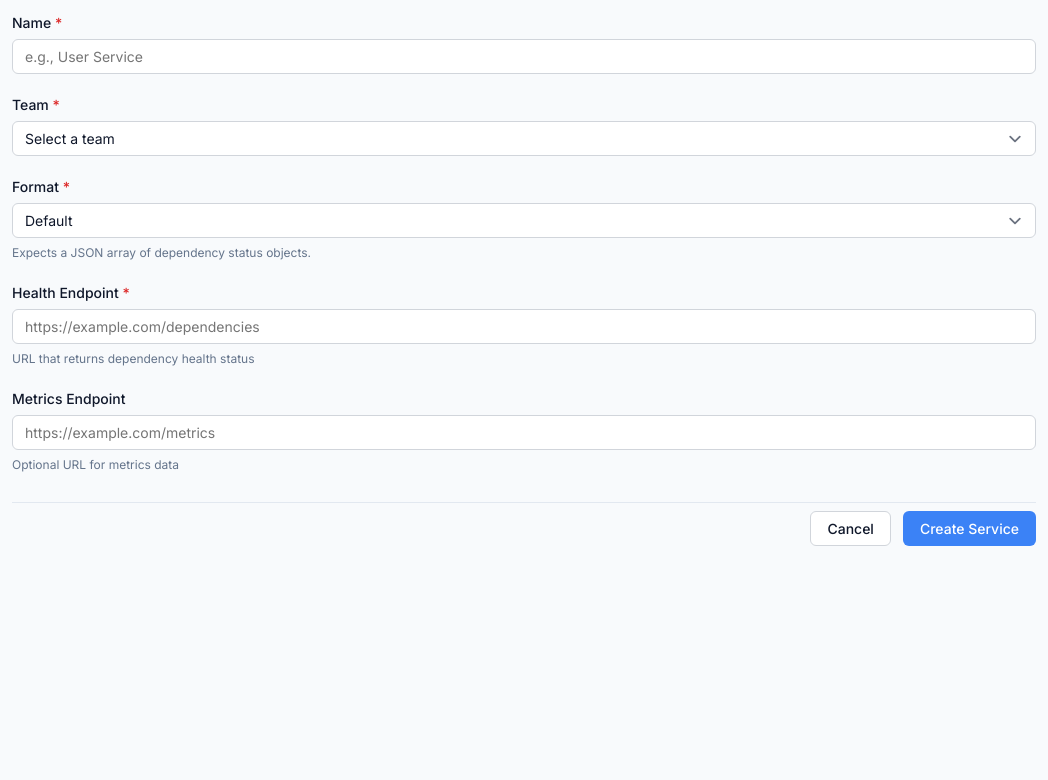
Test case: ServiceForm › handles submit error
Type "New Service" into the field labelled "Name *".
click(524, 56); type("New Service")  # box x1=12 y1=39 x2=1036 y2=74
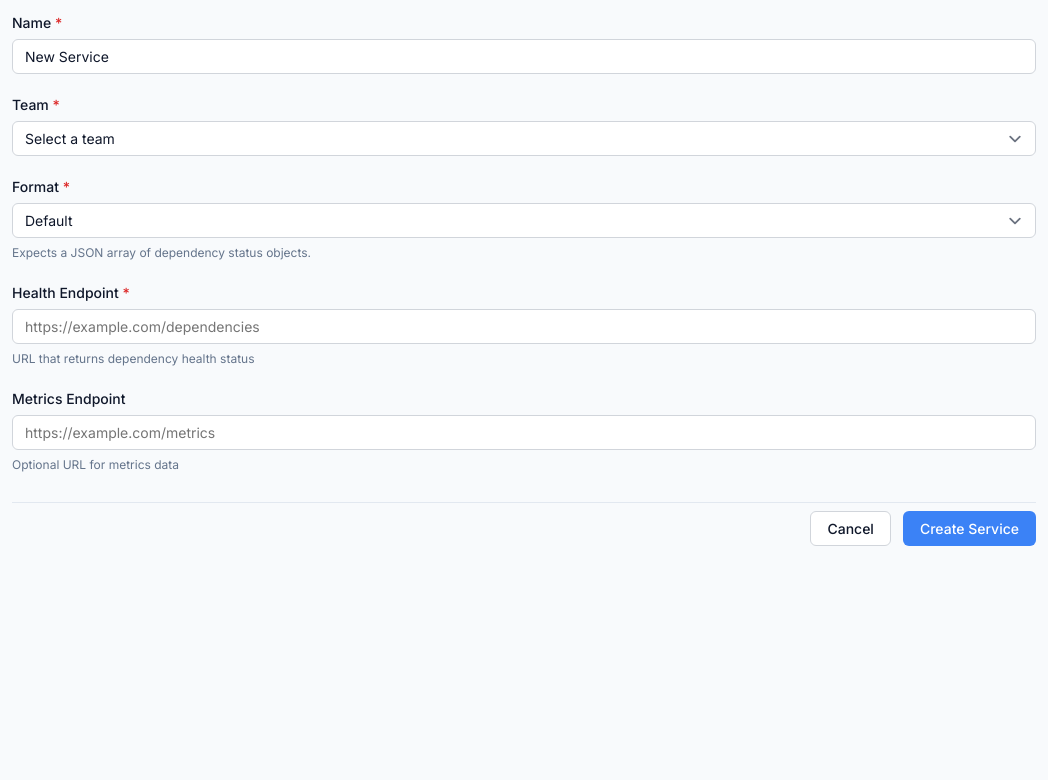
Select "Team A" in the dropdown labelled "Team *" at (524, 138), box x1=12 y1=121 x2=1036 y2=156
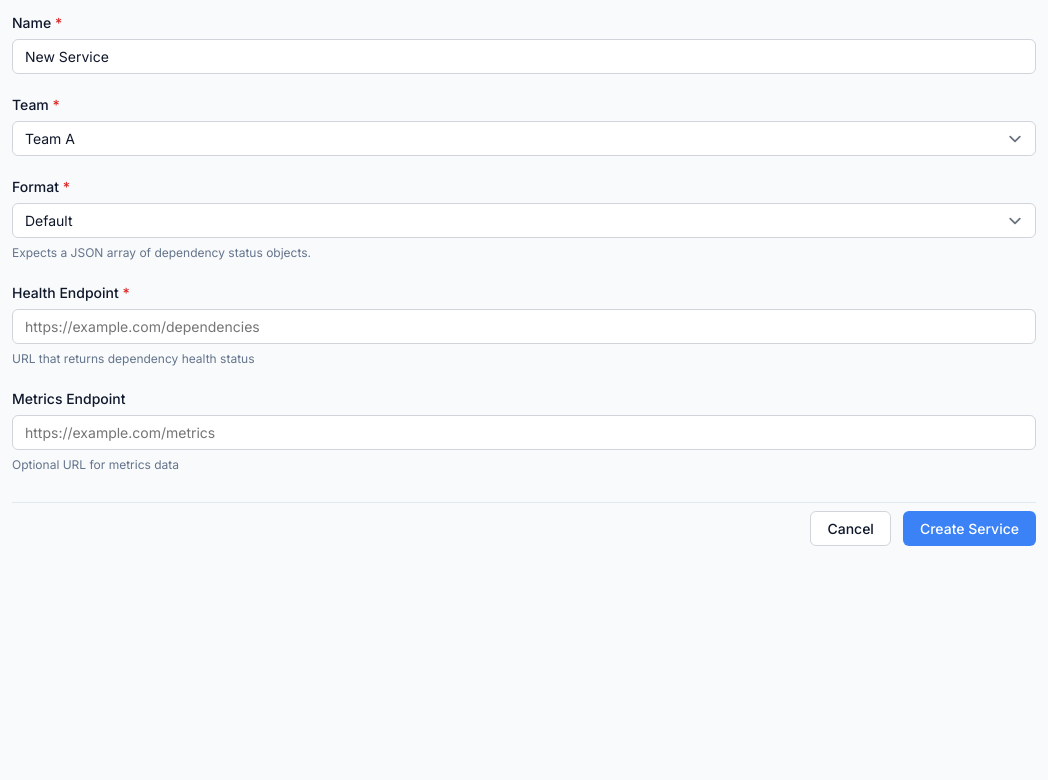
Type "https://example.com/health" into the field labelled "Health Endpoint *".
click(524, 326); type("https://example.com/health")  # box x1=12 y1=309 x2=1036 y2=344
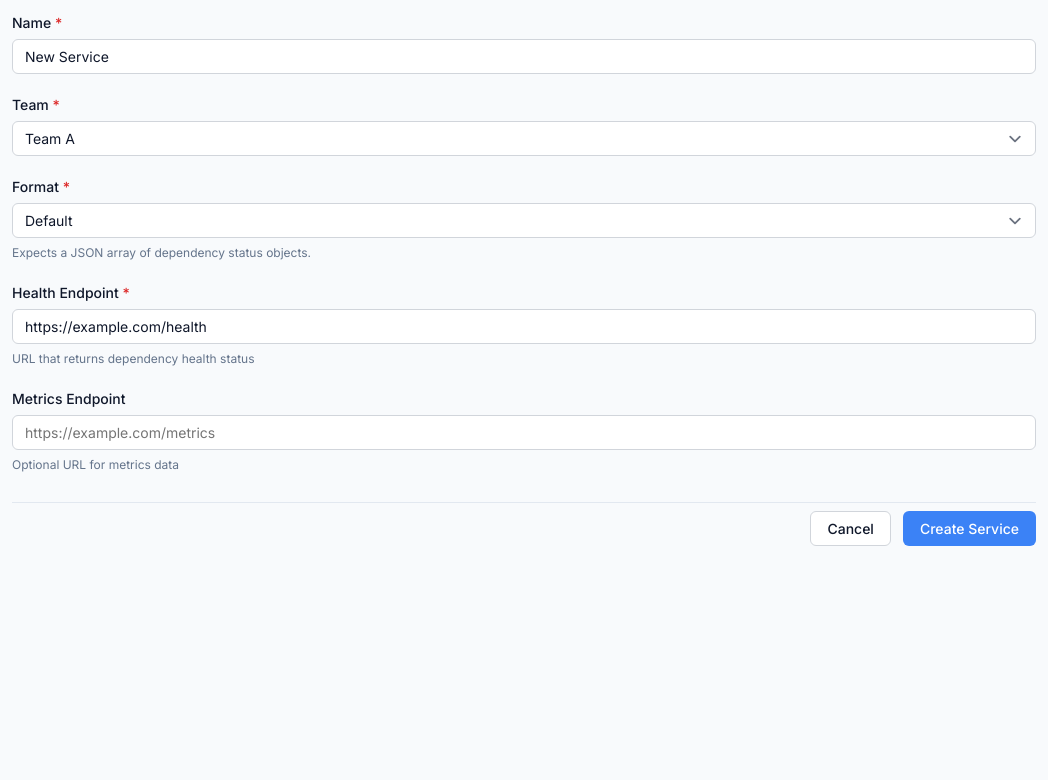
Click the button "Create Service".
click(969, 528)  # box x1=903 y1=511 x2=1036 y2=546
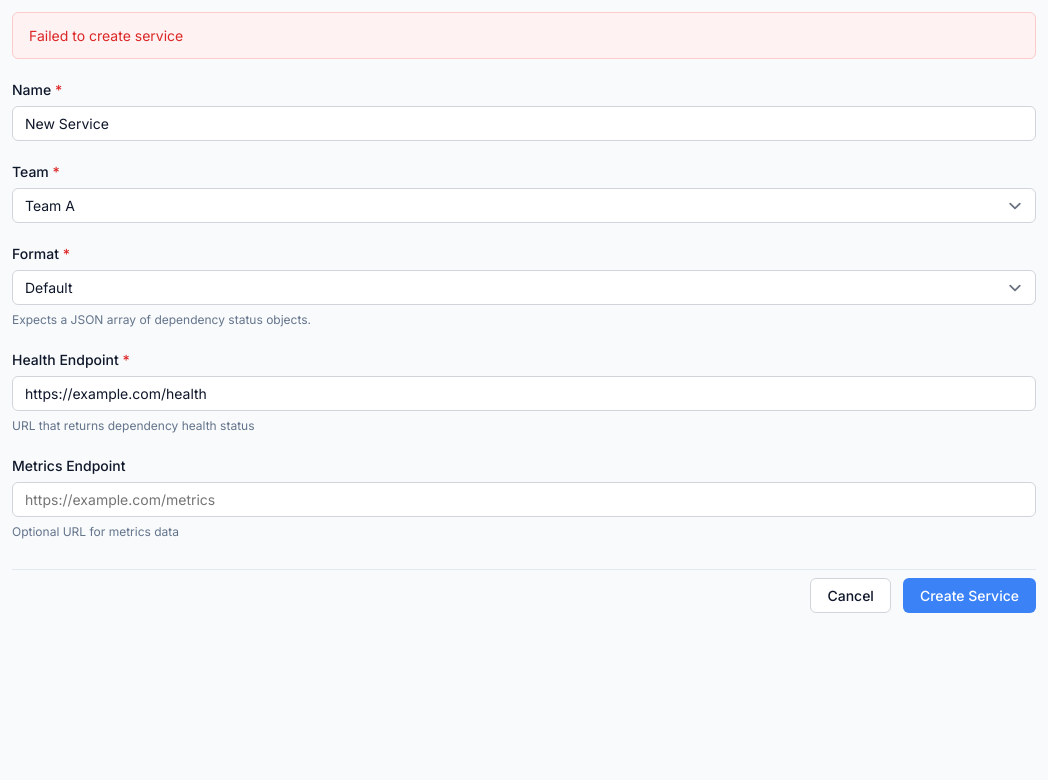
Expected: the text "Failed to create service" is shown, x1=12 y1=12 x2=1036 y2=59
